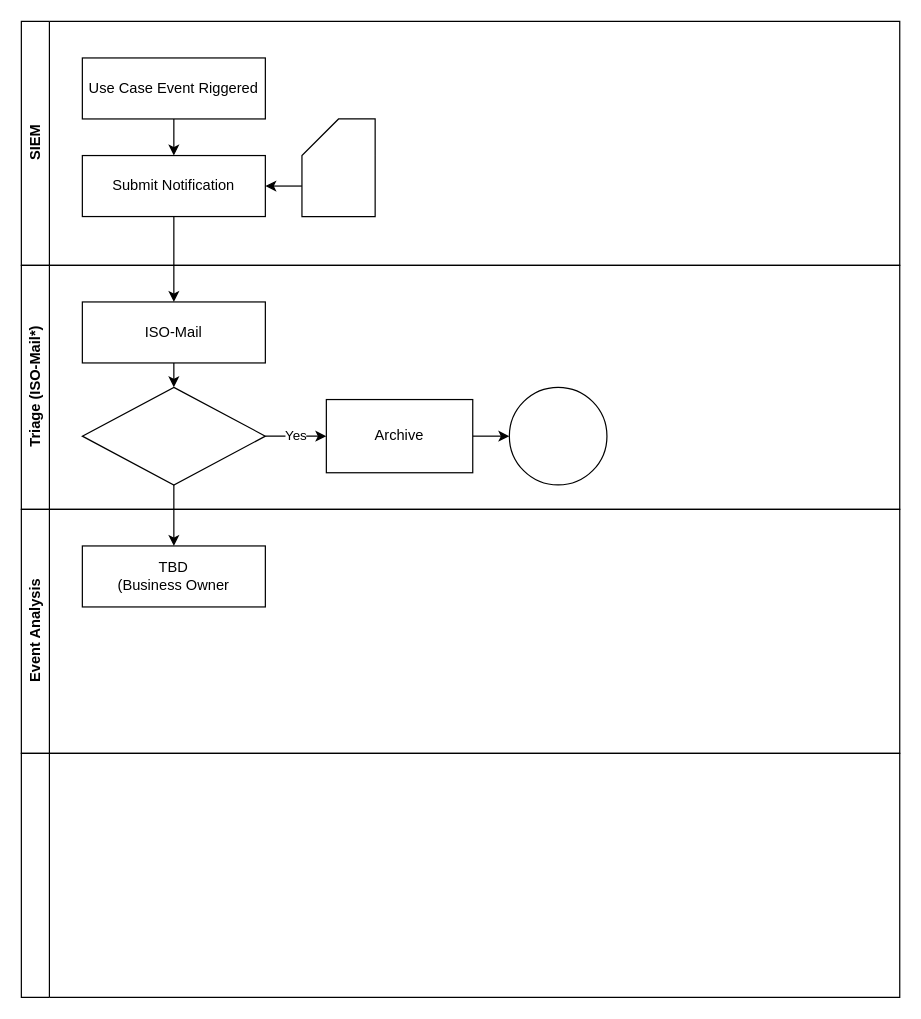
The diagram is 921 pixels wide and 1019 high, and some of its shapes have lost their labels. Here are the shapes that lost their labels. From the top down, the centre of each, then its label:
At [338,167]: "Evidenz".
At [173,435]: "False Positiv ?".
At [557,435]: "END".
At [460,874]: "Event Handling".
